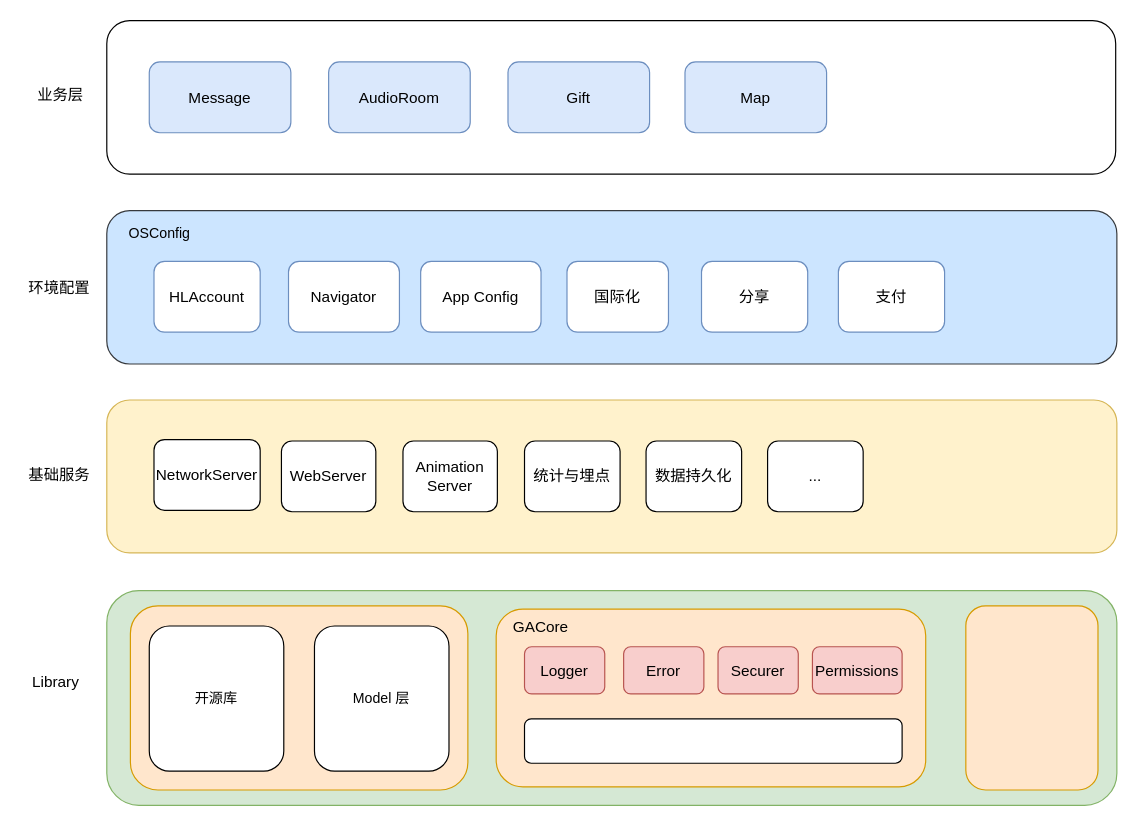
Some shapes in this 1138 by 826 pixel diagram are drawn without their labels. Each missing label, with the box of its shape:
Extension Utils: (523, 718, 902, 763)
GAUI: (965, 605, 1098, 790)
